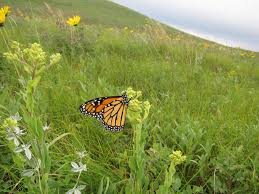Butterfly: (79, 92, 132, 132)
